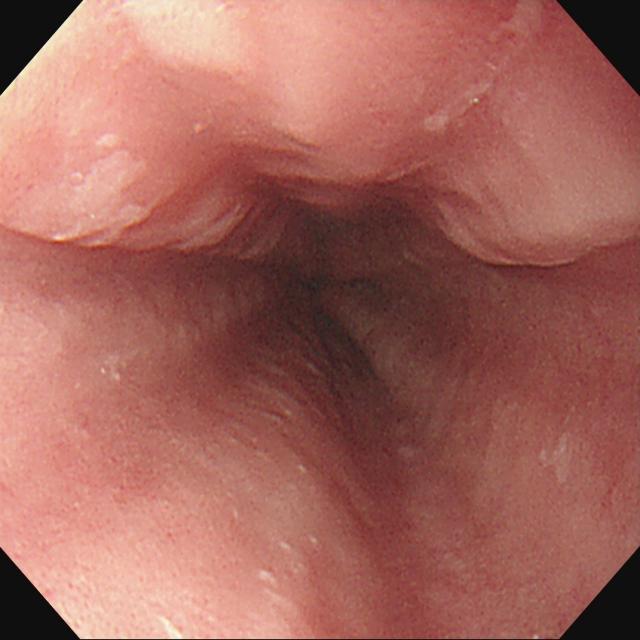J: (45, 125, 151, 253)
